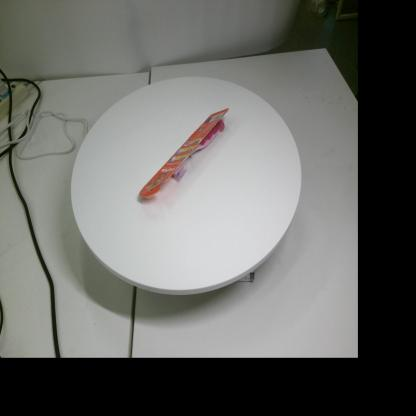Personal Hygiene: (139, 107, 229, 198)
